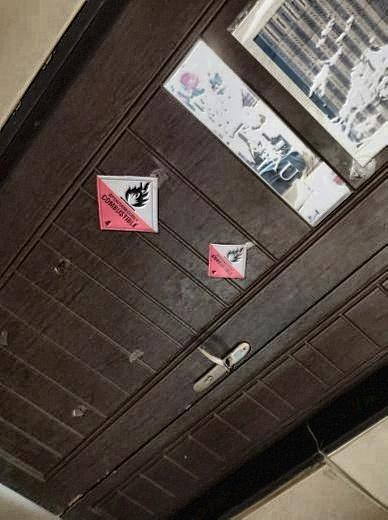spontaneously-combustible: (99, 176, 160, 232), (209, 243, 246, 280)
